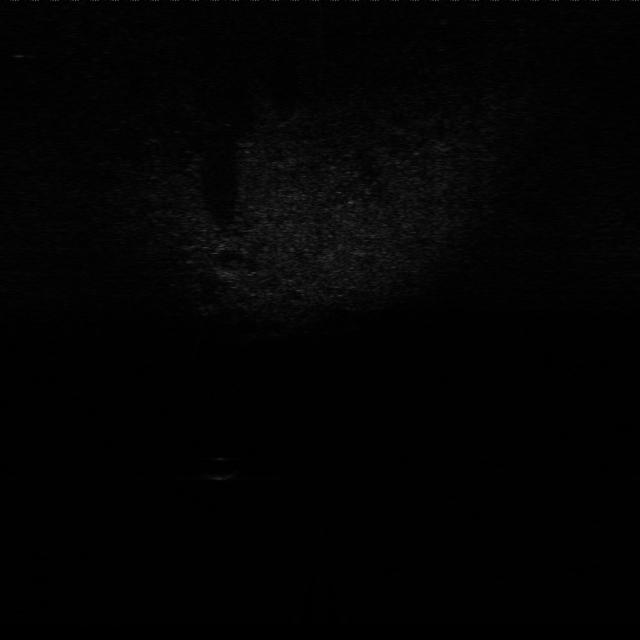ball: (197, 448, 244, 484)
